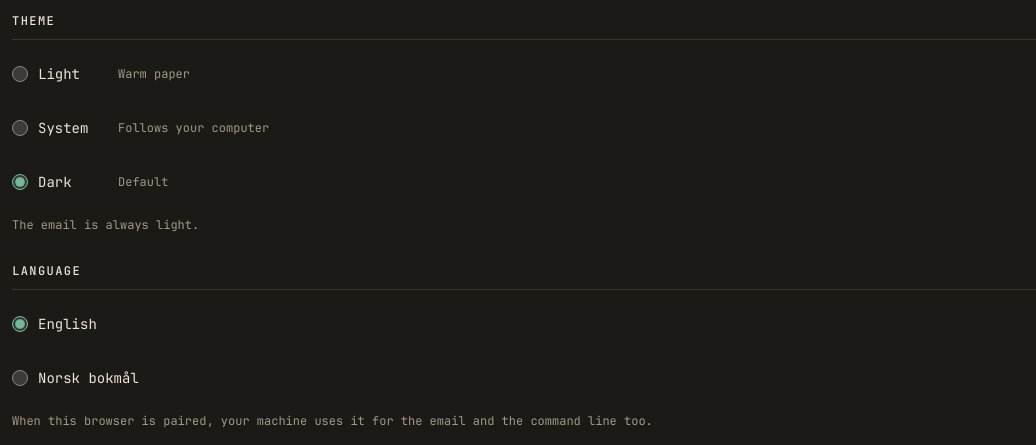
Test case: AppearanceSettings language › should switch the page to bokmål when Norsk bokmål is picked
This screenshot has width=1036, height=445.
Click the radio button labelled "Norsk bokmål": (20, 378) [12,370,28,386]
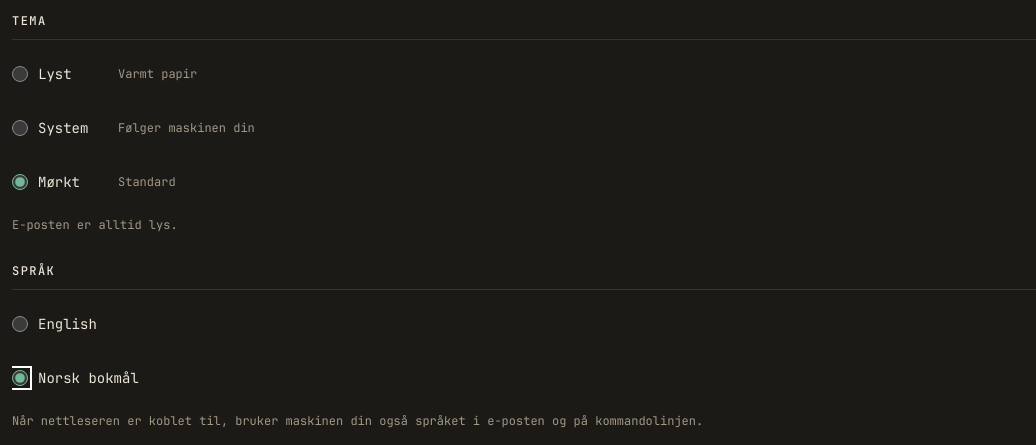
Result: the element "Språk" is shown at [12,263,139,387]
